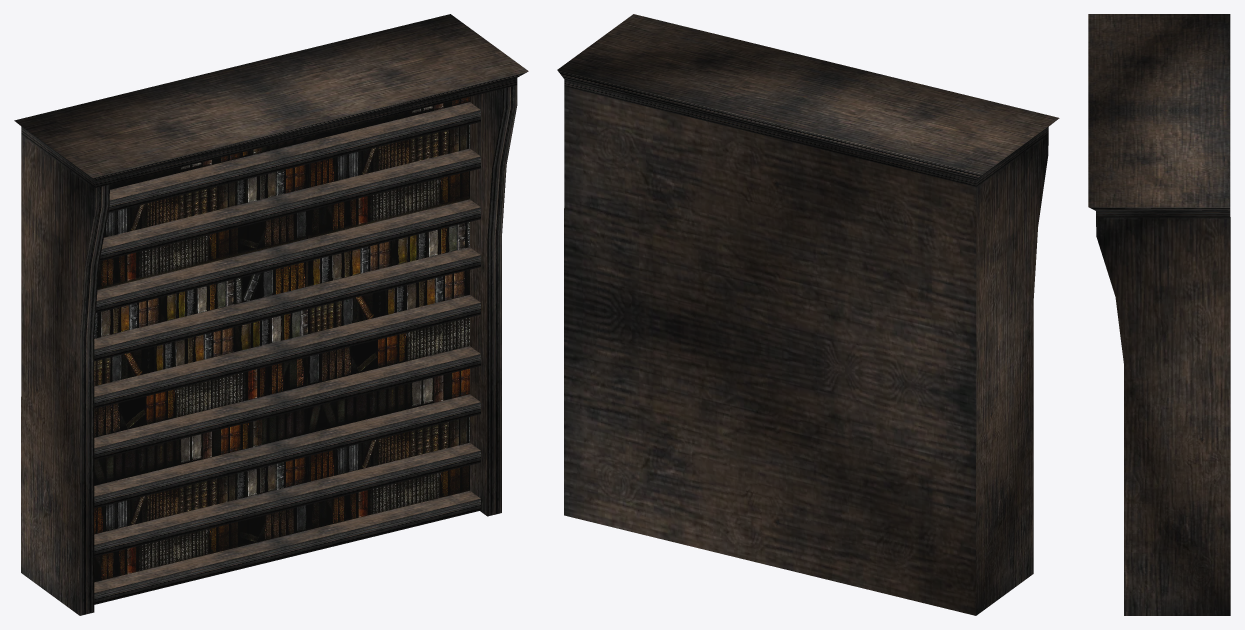
File: GS_CITY_BOOKSHELF_BLACK_01_KOZA.glb
3 views of the same model, side by side, from view 1: azimuth 30°, elevation 25°; view 2: azimuth 150°, elevation 25°; view 3: azimuth 270°, elevation 25° (orthographic). The views are drawn at different scales.
Parts seen in each view (by area): view 1: Mesh; view 2: Mesh; view 3: Mesh.
Part boxes in pixels (x1,y1,x2,y2): Mesh: (14, 14, 528, 615); Mesh: (557, 14, 1059, 615); Mesh: (1088, 14, 1230, 615).
Size of the model in its own units: 3 by 2.98 by 0.9349.
Materials: 4 (4 with a texture image).
